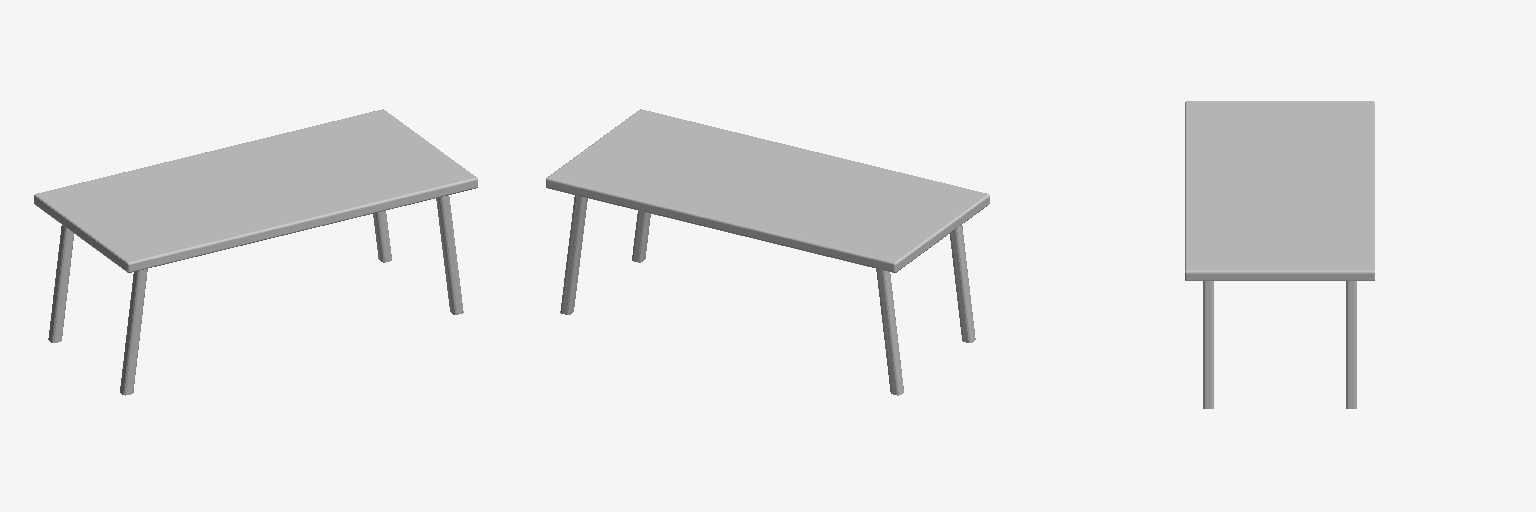
The model's file is desk.obj.
3 views of the same model, side by side, from view 1: azimuth 30°, elevation 25°; view 2: azimuth 150°, elevation 25°; view 3: azimuth 270°, elevation 25° (orthographic).
Visible parts, largest first — view 1: Cube, pied.2, pied.3, pied.1, pied; view 2: Cube, pied.1, pied, pied.2, pied.3; view 3: Cube, pied.3, pied.
Part boxes in pixels (x1,y1,x2,y2): Cube: (34,109,477,272); pied.2: (120,269,147,395); pied.3: (436,195,463,314); pied.1: (48,225,73,342); pied: (373,211,391,262); Cube: (546,109,989,272); pied.1: (876,269,903,395); pied: (560,195,587,314); pied.2: (950,225,975,342); pied.3: (632,211,650,262); Cube: (1185,101,1374,280); pied.3: (1203,281,1213,408); pied: (1346,281,1356,408).
Size of the model in its own units: 170 by 65 by 80.